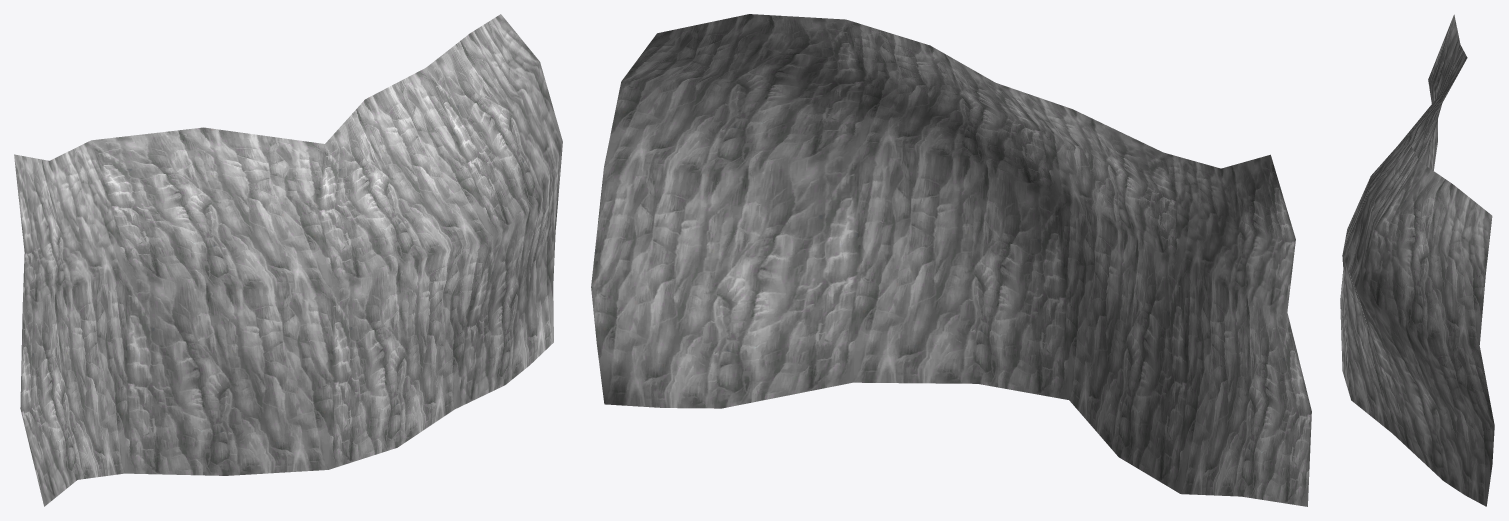
File: SWORDLIGHT20_PS-AREA03_32.fbx
3 views of the same model, side by side, from view 1: azimuth 30°, elevation 25°; view 2: azimuth 150°, elevation 25°; view 3: azimuth 270°, elevation 25° (orthographic). The views are drawn at different scales.
Parts seen in each view (by area): view 1: SWORDLIGHT20_PS-AREA03_32; view 2: SWORDLIGHT20_PS-AREA03_32; view 3: SWORDLIGHT20_PS-AREA03_32.
Boxes of the visible parts, bbox=[...] form: SWORDLIGHT20_PS-AREA03_32: bbox=[14, 14, 562, 506]; SWORDLIGHT20_PS-AREA03_32: bbox=[591, 14, 1311, 506]; SWORDLIGHT20_PS-AREA03_32: bbox=[1340, 14, 1494, 506].
Bounding box in the file's own units: 299349 × 174641 × 85638.
Materials: 1 (1 with a texture image).
